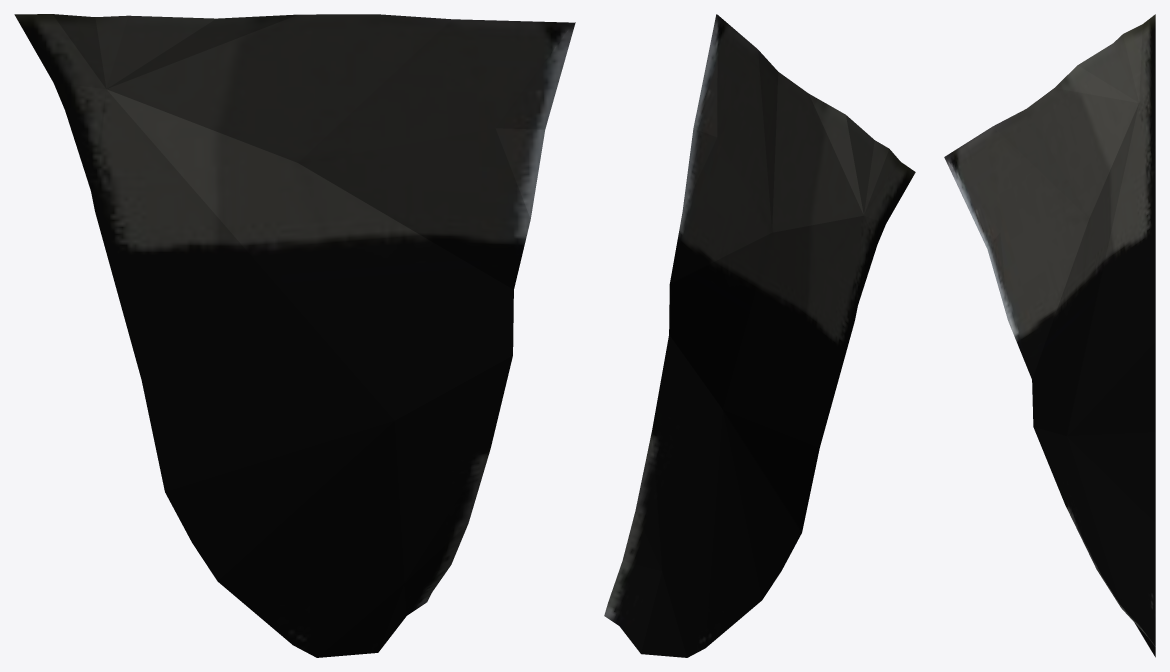
3 views of the same model, side by side, from view 1: azimuth 30°, elevation 25°; view 2: azimuth 150°, elevation 25°; view 3: azimuth 270°, elevation 25° (orthographic). The views are drawn at different scales.
Bounding box in the file's own units: 1.45 × 2.44 × 0.9037.
Materials: 1 (1 with a texture image).
